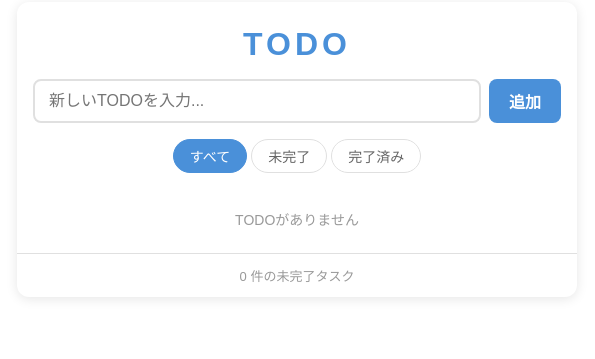
Test: TodoApp › TODO削除 › 複数のTODOから特定のものだけ削除できる
Type "残す" into the field with placeholder "新しいTODOを入力...".
click(257, 101); type("残す")  # box [33,79,481,123]
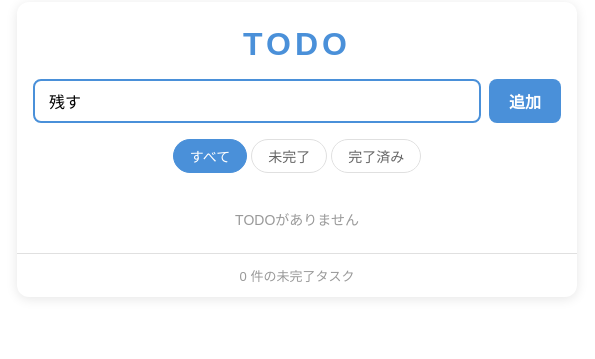
Click the button "追加".
click(525, 101)  # box [489,79,561,123]
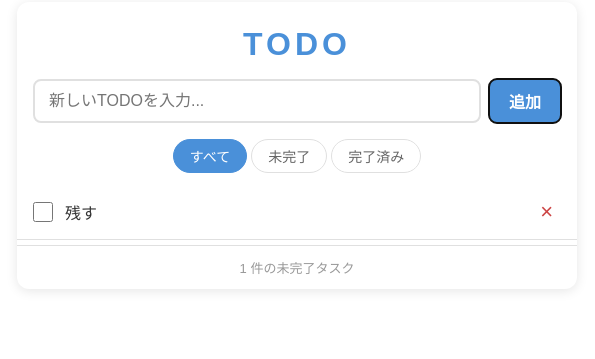
Type "消す" into the field with placeholder "新しいTODOを入力...".
click(257, 101); type("消す")  # box [33,79,481,123]
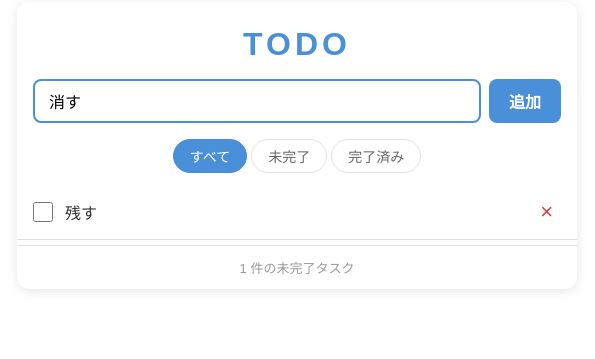
Click the button "追加".
click(525, 101)  # box [489,79,561,123]
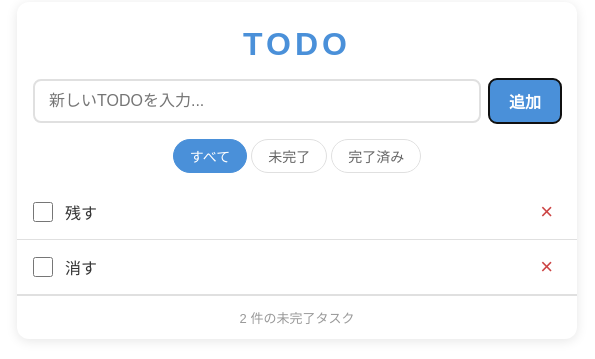
Click the button named "削除".
click(547, 267)  # box [532,252,561,282]
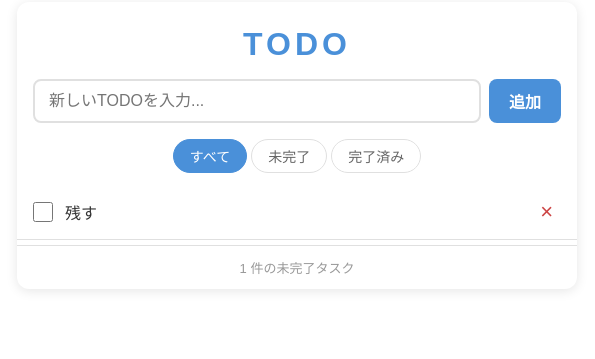
Expected: the text "残す" is shown, [65,200,97,224]
Expected: the text "消す" is gone
